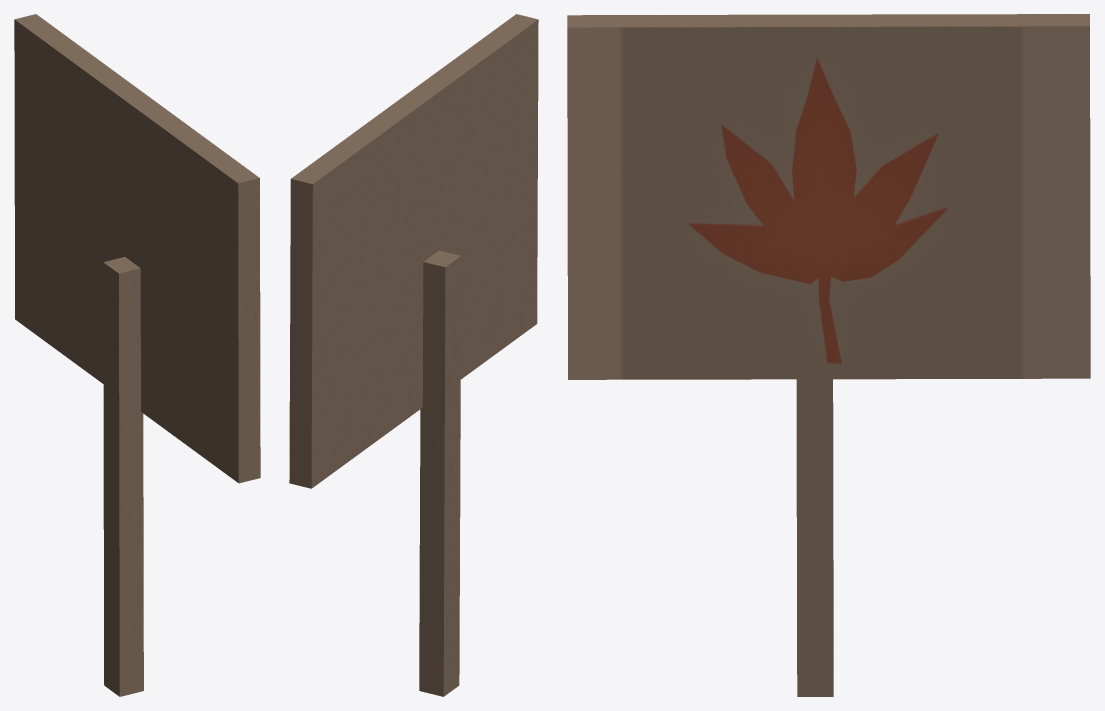
File: placard.fbx
3 views of the same model, side by side, from view 1: azimuth 30°, elevation 25°; view 2: azimuth 150°, elevation 25°; view 3: azimuth 270°, elevation 25° (orthographic). The views are drawn at different scales.
Visible parts, largest first — view 1: placard; view 2: placard; view 3: placard.
Boxes of the visible parts, x1=… form: placard: x1=14, y1=14, x2=260, y2=696; placard: x1=289, y1=14, x2=538, y2=696; placard: x1=567, y1=14, x2=1090, y2=696.
Size of the model in its own units: 34.29 by 430 by 300.
1 material, 1 textured.
